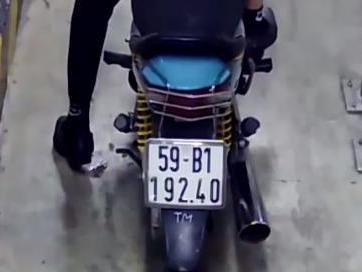num_plate: (143, 138, 228, 209)
